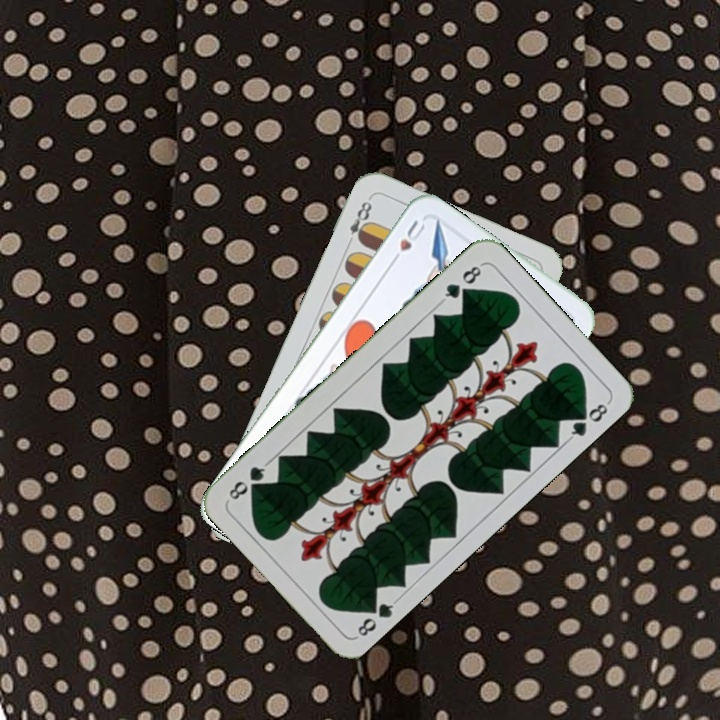E8: (342, 194, 375, 250)
G8: (353, 593, 400, 641), (438, 260, 485, 305)
HU: (386, 216, 428, 268)
